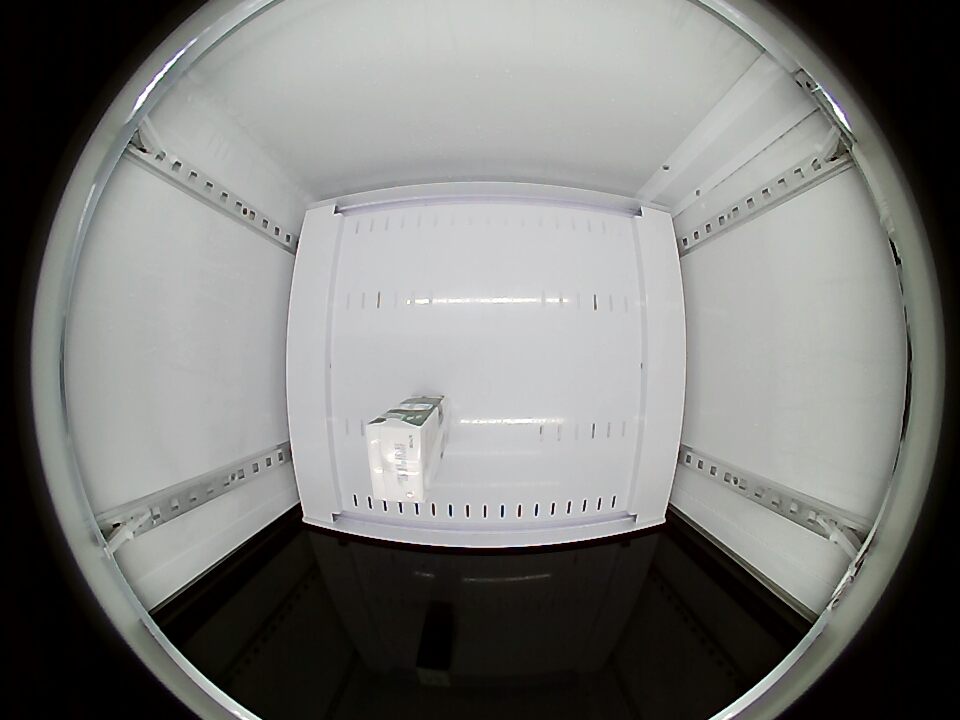jindian: (365, 409, 439, 501)
